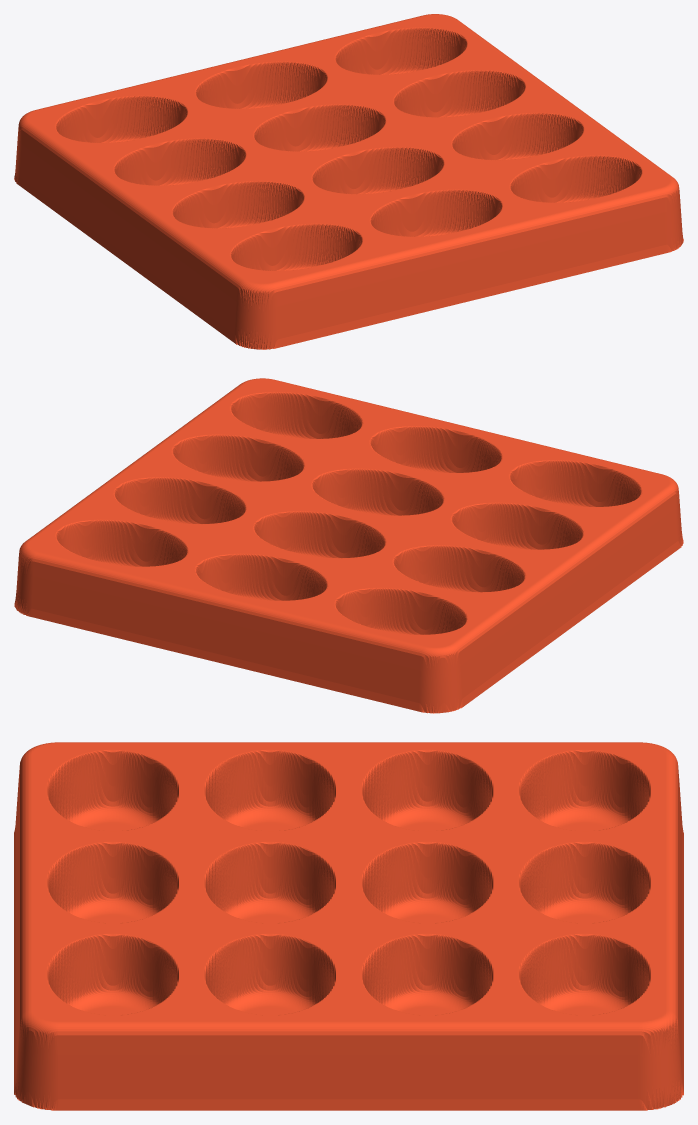
Rendered from mold.glb.
The picture shows the model from 3 angles, top to bottom: view 1: azimuth 30°, elevation 25°; view 2: azimuth 150°, elevation 25°; view 3: azimuth 270°, elevation 25°; orthographic projection. The views are drawn at different scales.
Visible parts, largest first — view 1: geometry_0; view 2: geometry_0; view 3: geometry_0.
Boxes of the visible parts, x1,y1,x2,y2 form: geometry_0: (14, 14, 683, 349); geometry_0: (14, 378, 683, 713); geometry_0: (14, 742, 683, 1110).
Size of the model in its own units: 0.141 by 0.0182 by 0.136.
